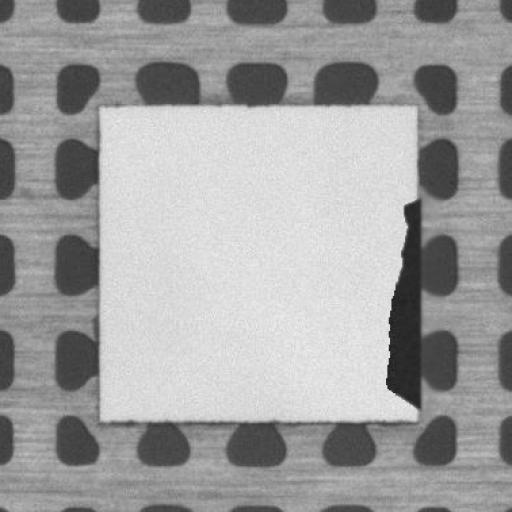DIE_BROKEN: (382, 196, 423, 405)
